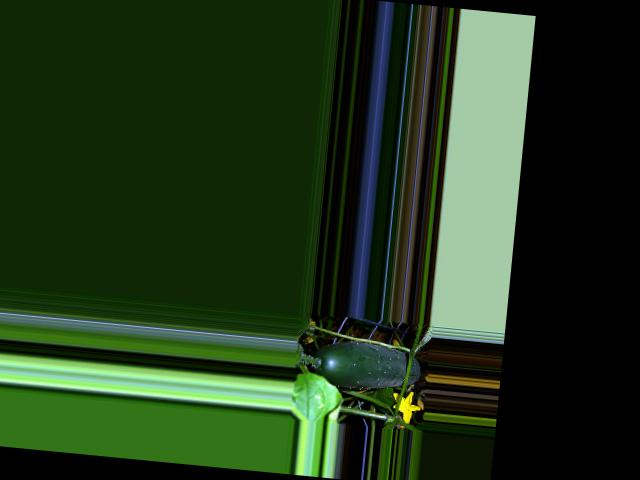cucumber: (308, 337, 421, 394)
